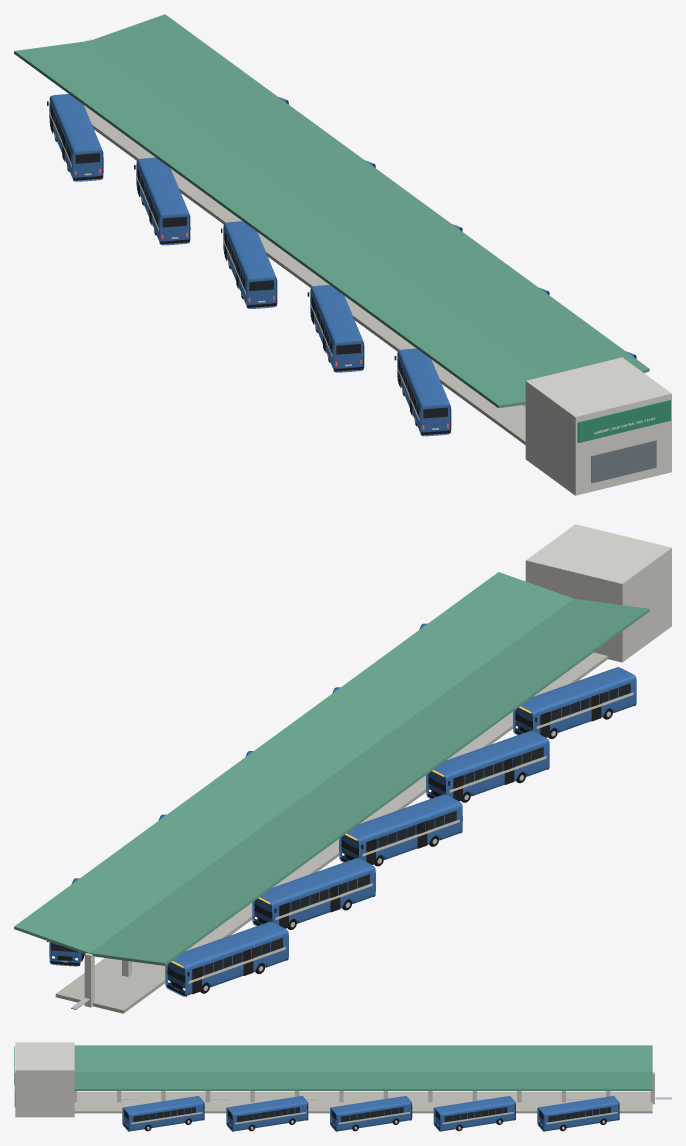
The model's file is bus_central_ao.glb.
3 views of the same model, one above another, from view 1: azimuth 30°, elevation 25°; view 2: azimuth 150°, elevation 25°; view 3: azimuth 270°, elevation 25° (orthographic). The views are drawn at different scales.
Visible parts, largest first — view 1: bus_central; view 2: bus_central; view 3: bus_central.
Boxes of the visible parts, x1,y1,x2,y2 form: bus_central: [14, 14, 671, 495]; bus_central: [14, 524, 671, 1013]; bus_central: [14, 1042, 671, 1131].
Bounding box in the file's own units: 20.08 × 7 × 88.78.
